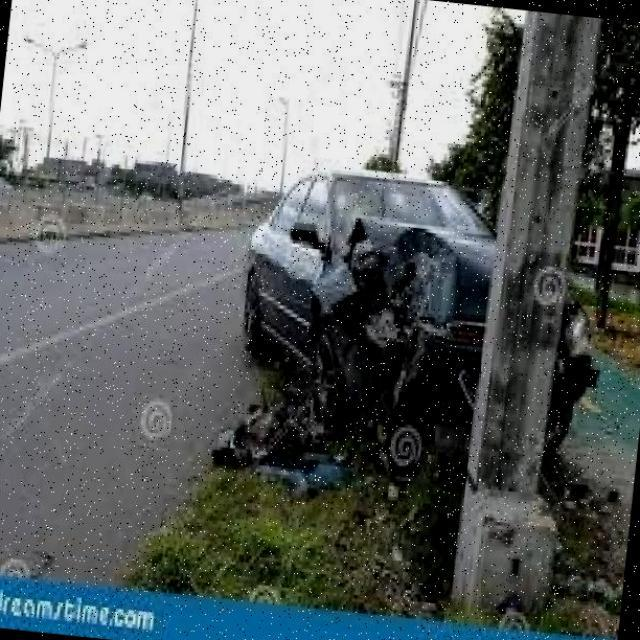accident: (231, 161, 602, 480)
